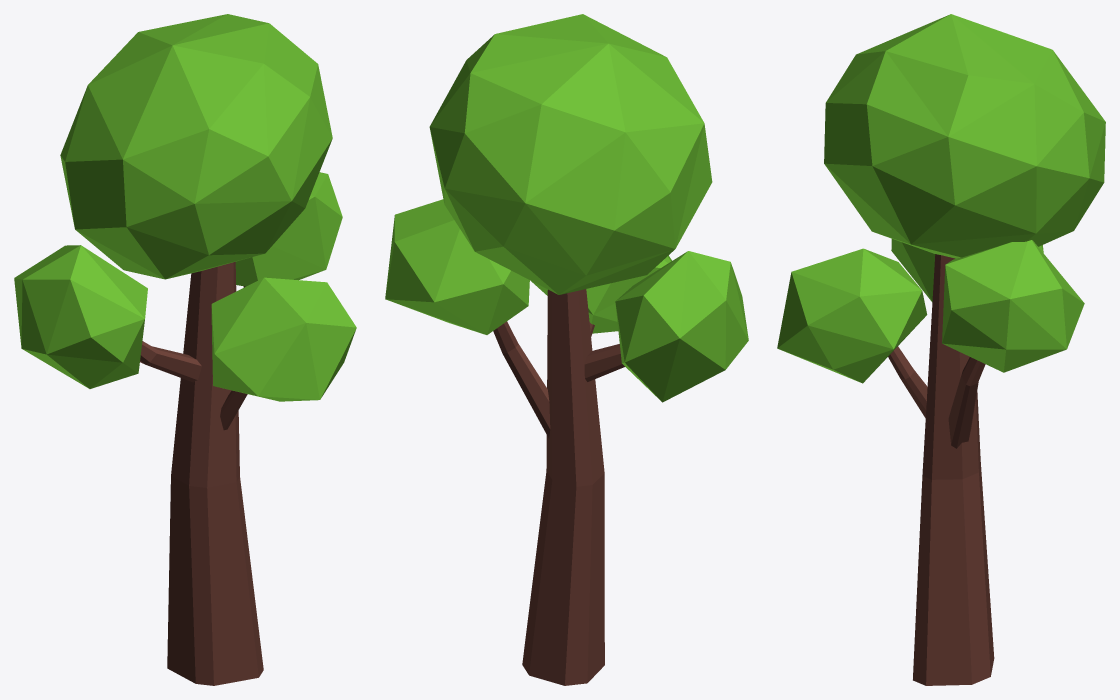
File: tree_large.fbx
The picture shows the model from 3 angles, left to right: view 1: azimuth 30°, elevation 25°; view 2: azimuth 150°, elevation 25°; view 3: azimuth 270°, elevation 25°; orthographic projection.
Parts seen in each view (by area): view 1: leafage, trunk; view 2: leafage, trunk; view 3: leafage, trunk.
Part boxes in pixels (x1=…): leafage: x1=14, y1=14, x2=356, y2=401; trunk: x1=140, y1=262, x2=263, y2=685; leafage: x1=385, y1=14, x2=748, y2=402; trunk: x1=493, y1=289, x2=624, y2=685; leafage: x1=777, y1=14, x2=1105, y2=383; trunk: x1=888, y1=254, x2=994, y2=685.
Size of the model in its own units: 171 by 323 by 152.
